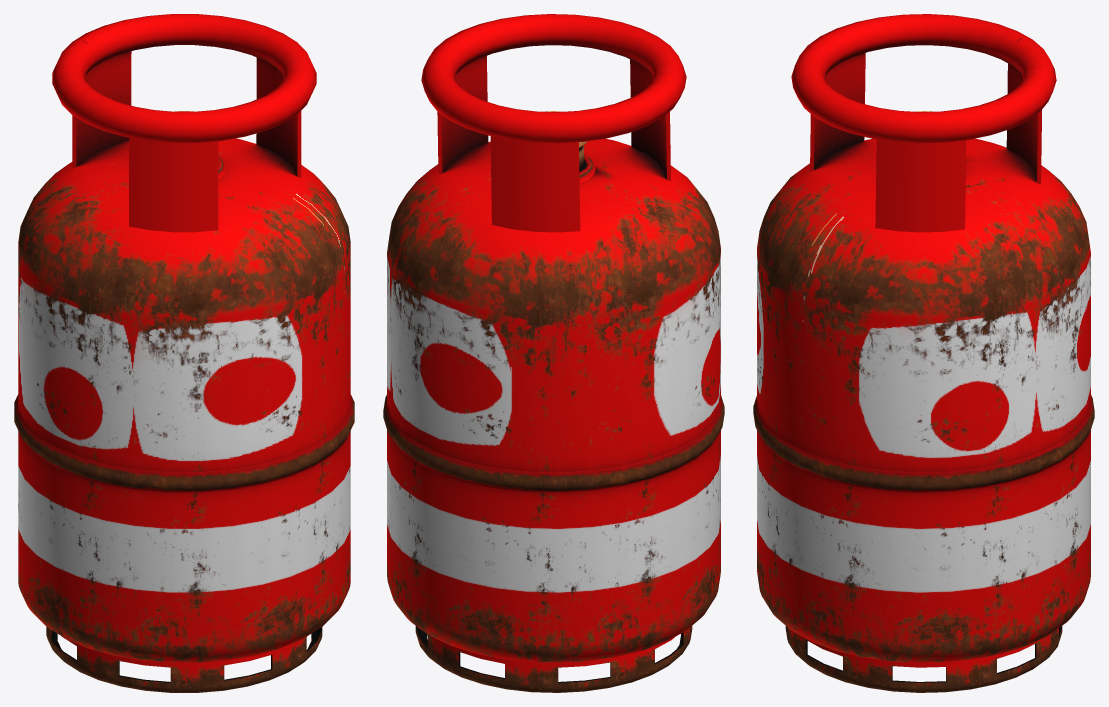
File: GasCylinder.fbx
3 renders of one model, left to right at view 1: azimuth 30°, elevation 25°; view 2: azimuth 150°, elevation 25°; view 3: azimuth 270°, elevation 25°, orthographic.
Parts seen in each view (by area): view 1: Gas cylinder.001; view 2: Gas cylinder.001; view 3: Gas cylinder.001.
Part boxes in pixels (x1,y1,x2,y2): Gas cylinder.001: [14, 14, 354, 692]; Gas cylinder.001: [383, 14, 724, 692]; Gas cylinder.001: [753, 14, 1094, 692].
Size of the model in its own units: 31.63 by 58.61 by 31.63.
Materials: 1 (1 with a texture image).
